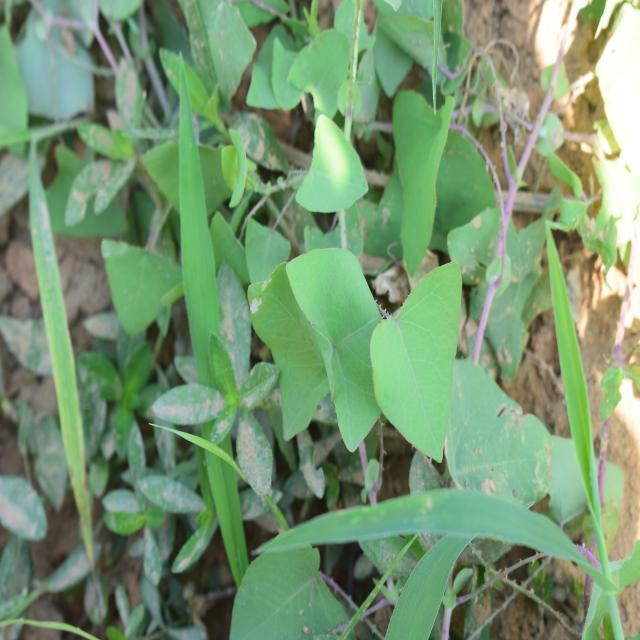Asiatic_Smartweed: (253, 236, 538, 496), (274, 34, 485, 260)
